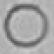no answer: (4, 1, 48, 50)
